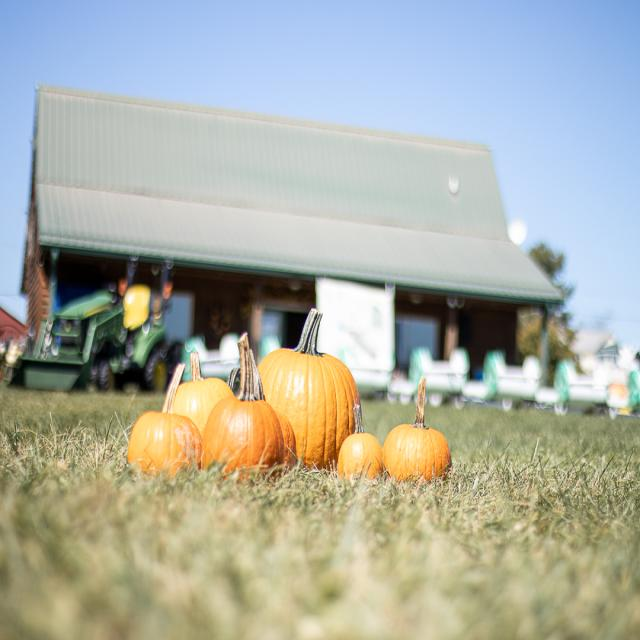pumpkin: (259, 309, 360, 469), (202, 332, 285, 472), (128, 364, 201, 476), (382, 377, 451, 480), (172, 351, 232, 435), (338, 405, 384, 479), (276, 412, 298, 468), (249, 349, 265, 401)
